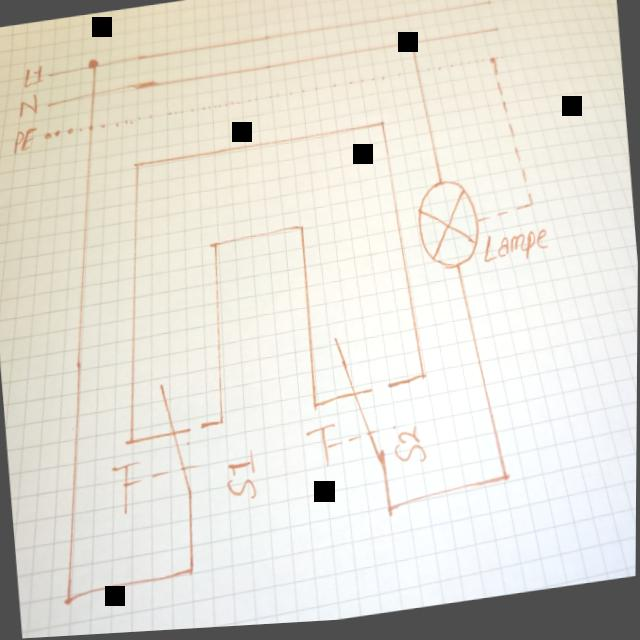crossover: (84, 123, 97, 135), (410, 69, 422, 80), (89, 89, 98, 100)
junction: (403, 40, 418, 57), (121, 436, 136, 450), (85, 56, 98, 72), (384, 505, 395, 522), (500, 475, 512, 489), (486, 57, 498, 71), (186, 565, 197, 580), (62, 594, 74, 607), (417, 371, 428, 385), (310, 400, 321, 414), (526, 203, 535, 216), (216, 418, 226, 429), (209, 241, 218, 253), (297, 225, 305, 236), (377, 123, 385, 132), (132, 161, 140, 170)
switch: (103, 373, 211, 518), (297, 330, 399, 482)
terminal: (41, 128, 52, 143), (45, 68, 55, 80), (491, 28, 500, 40), (484, 2, 493, 13), (43, 100, 52, 111)
text: (481, 232, 552, 271), (221, 450, 261, 509), (391, 423, 429, 474), (9, 123, 39, 154), (20, 62, 45, 90), (16, 91, 39, 120)
